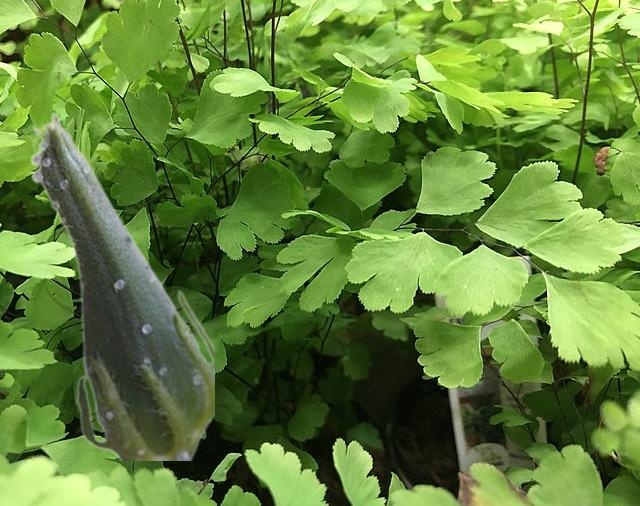okra: (29, 112, 213, 459)
